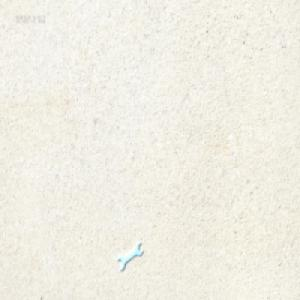Wrench: (118, 242, 142, 270)
